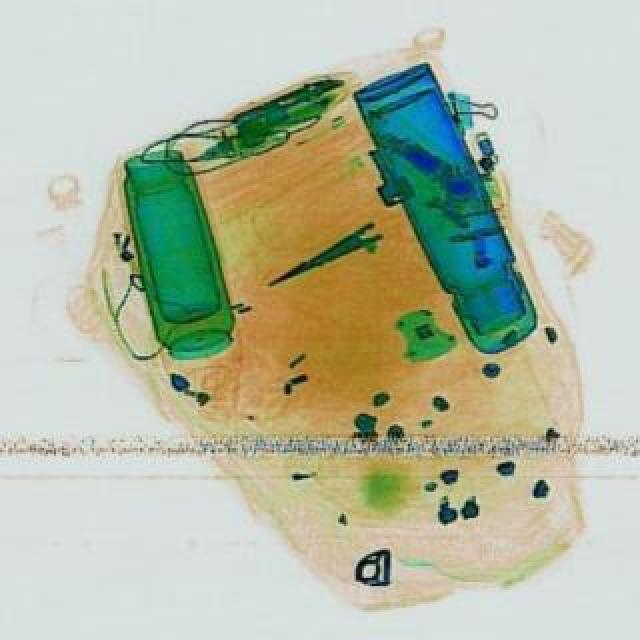knife: (266, 226, 386, 298)
